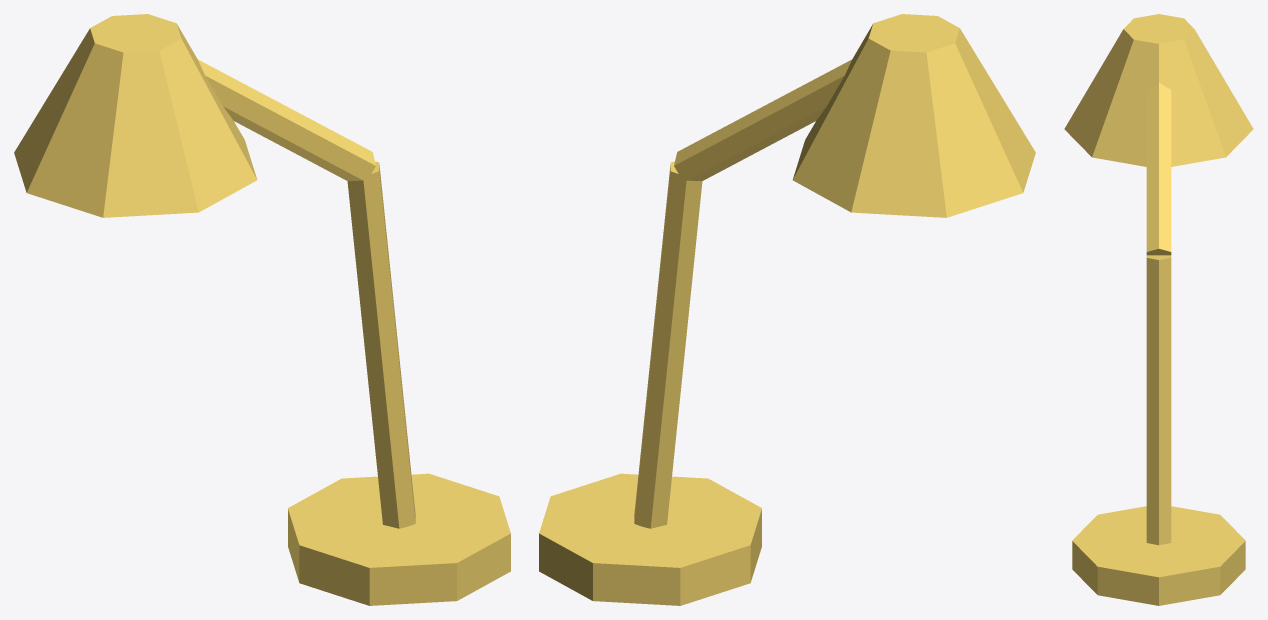
The picture shows the model from 3 angles, left to right: view 1: azimuth 30°, elevation 25°; view 2: azimuth 150°, elevation 25°; view 3: azimuth 270°, elevation 25°; orthographic projection. The views are drawn at different scales.
Parts seen in each view (by area): view 1: Base; view 2: Base; view 3: Base.
Boxes of the visible parts, bbox=[...] form: Base: bbox=[14, 14, 510, 605]; Base: bbox=[539, 14, 1035, 605]; Base: bbox=[1064, 14, 1253, 605].
Bounding box in the file's own units: 0.52 × 0.62 × 0.24.
1 material, 1 textured.
